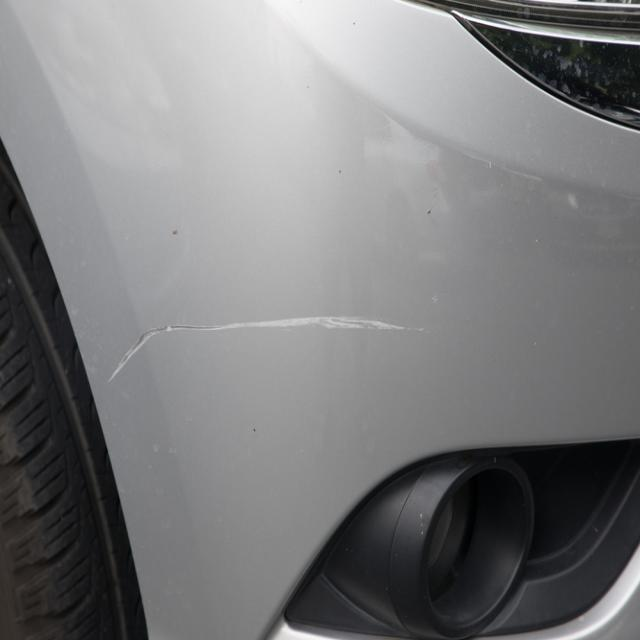scratch: (102, 314, 423, 387)
